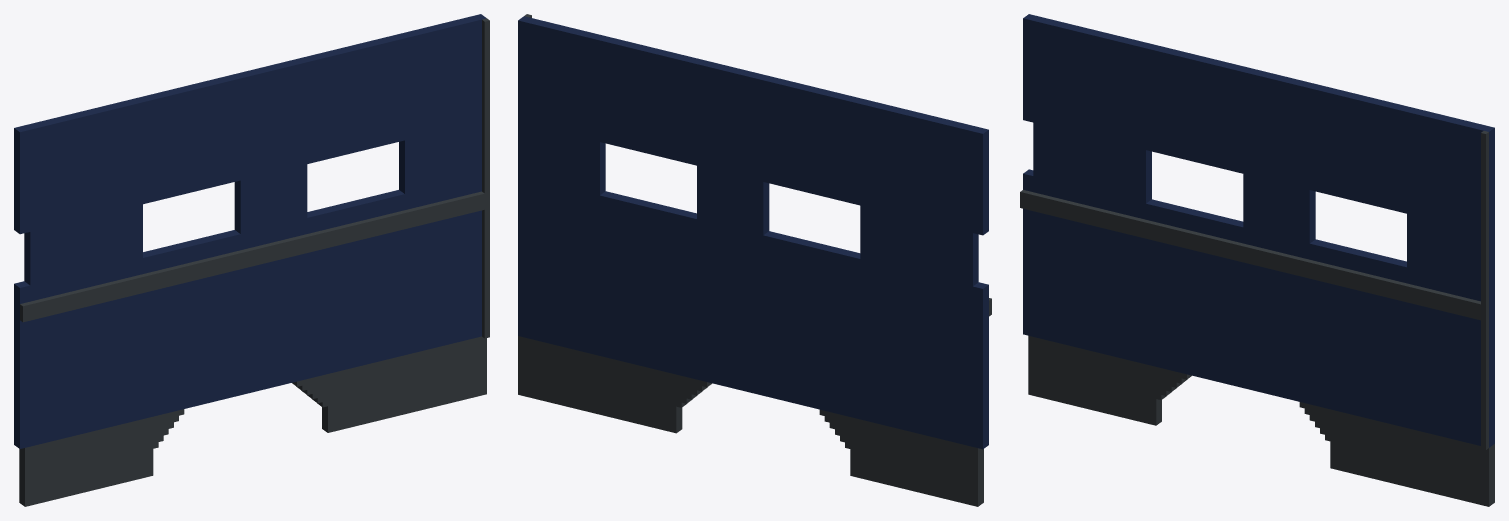
The model's file is swat_truck_body_side.glb.
The picture shows the model from 3 angles, left to right: view 1: azimuth 30°, elevation 25°; view 2: azimuth 150°, elevation 25°; view 3: azimuth 330°, elevation 25°; orthographic projection.
Visible parts, largest first — view 1: body:compound; view 2: body:compound; view 3: body:compound.
Boxes of the visible parts, x1=… form: body:compound: x1=14, y1=14, x2=489, y2=506; body:compound: x1=518, y1=14, x2=991, y2=506; body:compound: x1=1020, y1=14, x2=1494, y2=506.
Bounding box in the file's own units: 2.84 × 2.19 × 0.0938.
